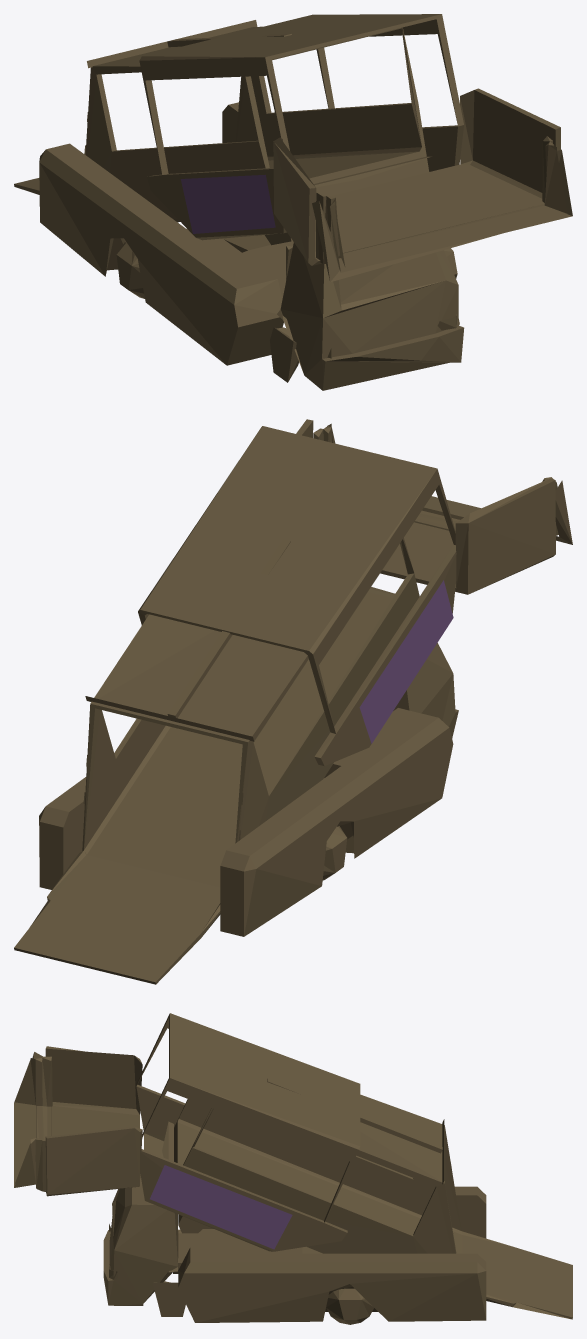
File: stair-truck.lod1.glb
3 views of the same model, one above another, from view 1: azimuth 30°, elevation 25°; view 2: azimuth 150°, elevation 25°; view 3: azimuth 270°, elevation 25° (orthographic). The views are drawn at different scales.
Parts seen in each view (by area): view 1: Object_15; view 2: Object_15; view 3: Object_15.
Part boxes in pixels (box(x1,y1,x2,y2)): Object_15: box(14, 14, 572, 390); Object_15: box(14, 419, 572, 984); Object_15: box(14, 1013, 572, 1324).
Size of the model in its own units: 3.5 by 4.36 by 8.91.
